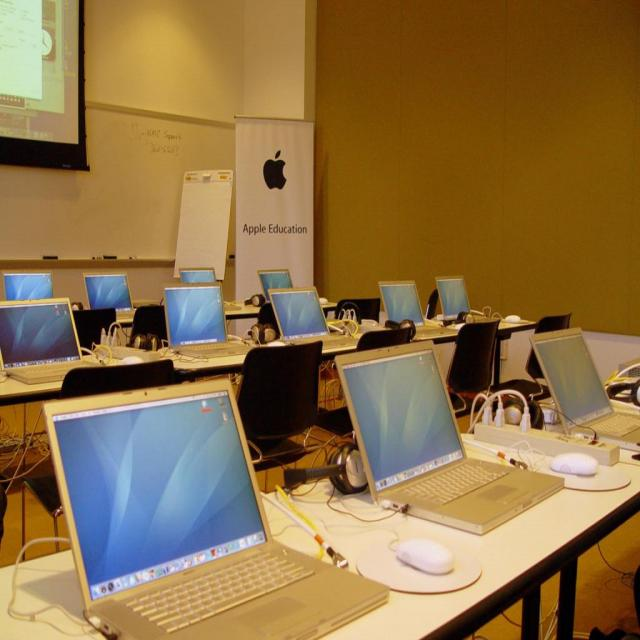chair: (236, 340, 322, 455), (446, 317, 500, 428), (467, 388, 537, 432)
desk: (31, 349, 614, 640)
laptop: (46, 379, 387, 640), (337, 344, 564, 538), (530, 326, 640, 443), (0, 296, 86, 386), (159, 282, 249, 368), (268, 286, 358, 353), (378, 280, 444, 332), (434, 276, 488, 322), (257, 269, 294, 305)
mouse: (394, 538, 454, 576), (551, 452, 598, 478)
tv: (0, 2, 90, 172)
